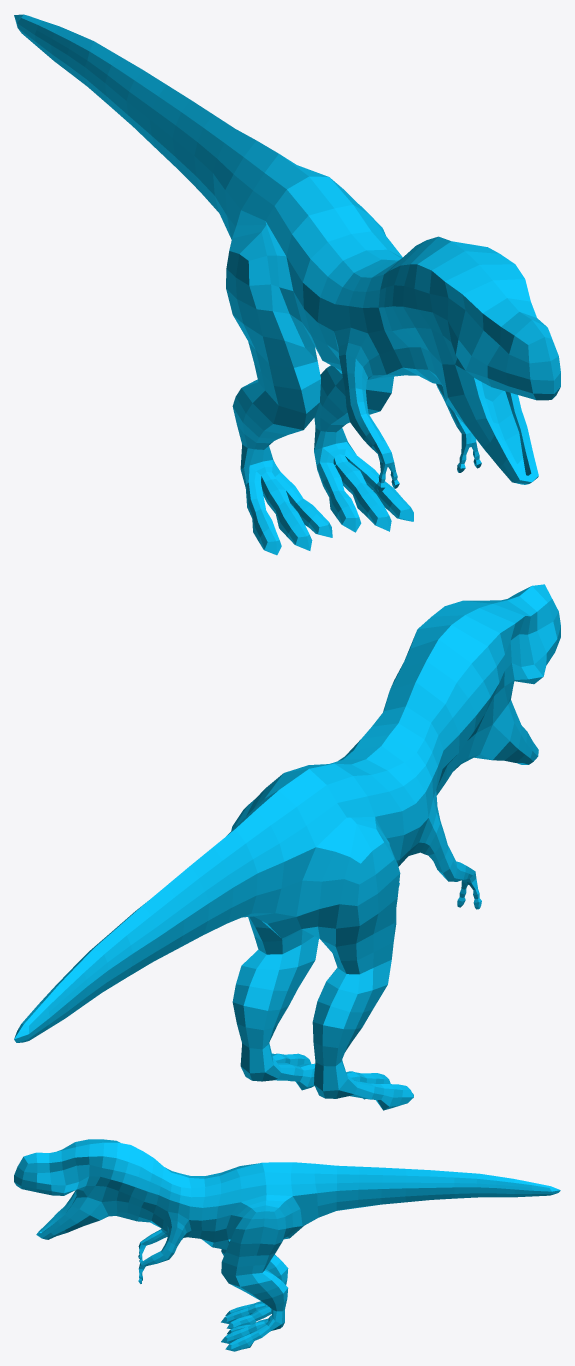
File: RexBot.obj
3 views of the same model, one above another, from view 1: azimuth 30°, elevation 25°; view 2: azimuth 150°, elevation 25°; view 3: azimuth 270°, elevation 25° (orthographic). The views are drawn at different scales.
Visible parts, largest first — view 1: polySurfaceShape16; view 2: polySurfaceShape16; view 3: polySurfaceShape16.
Boxes of the visible parts, x1,y1,x2,y2 form: polySurfaceShape16: (14,14,560,555); polySurfaceShape16: (14,584,560,1110); polySurfaceShape16: (14,1139,560,1351).
Bounding box in the file's own units: 16.99 × 41.29 × 106.
